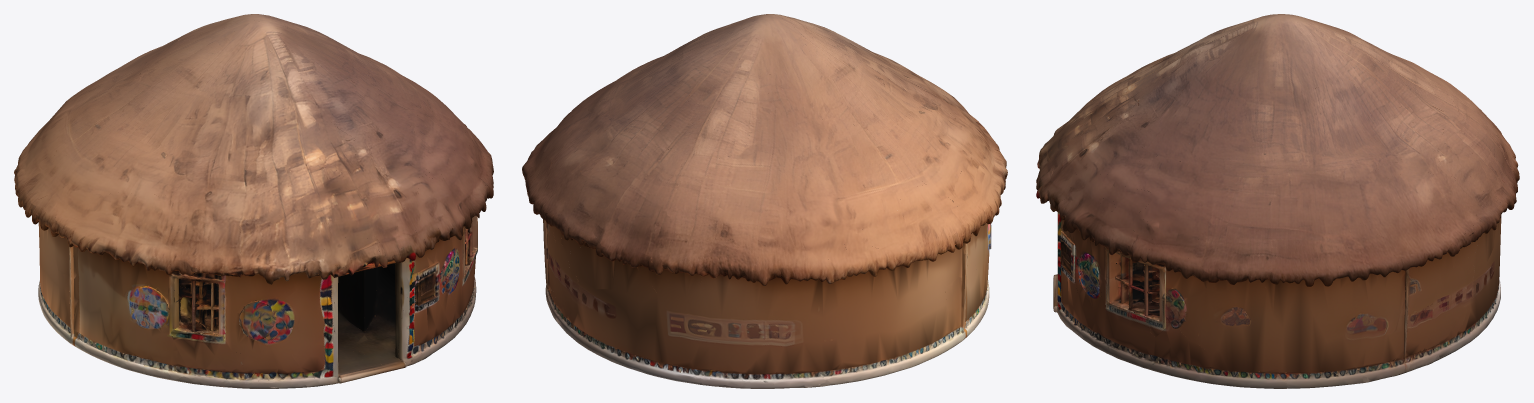
File: traditional_round_thatched_hut_50k.glb
3 views of the same model, side by side, from view 1: azimuth 30°, elevation 25°; view 2: azimuth 150°, elevation 25°; view 3: azimuth 270°, elevation 25° (orthographic).
Visible parts, largest first — view 1: Object_3, Object_4; view 2: Object_3, Object_4; view 3: Object_3, Object_4.
Part boxes in pixels (x1,y1,x2,y2): Object_3: [14, 14, 493, 388]; Object_4: [74, 20, 487, 388]; Object_3: [522, 14, 1007, 388]; Object_4: [529, 14, 1007, 388]; Object_3: [1036, 14, 1518, 388]; Object_4: [1036, 14, 1519, 388].
Size of the model in its own units: 1.81 by 1.15 by 1.81.
1 material, 1 textured.
